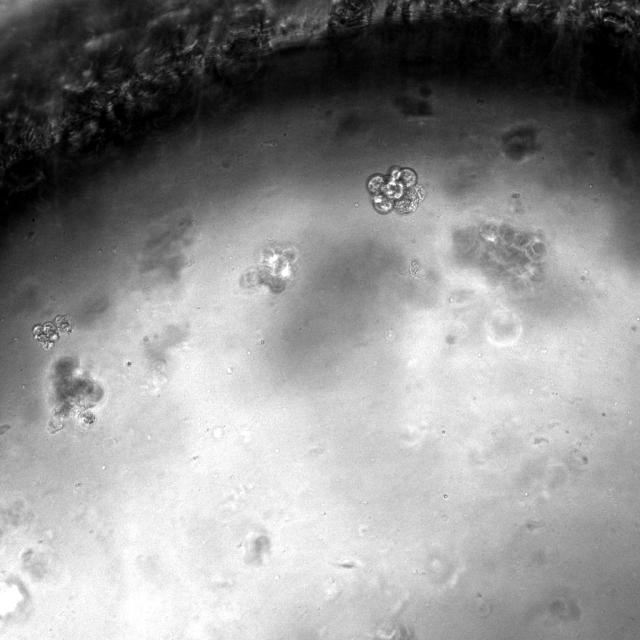organoid: (456, 220, 547, 288), (49, 357, 104, 432), (240, 245, 298, 294), (366, 166, 424, 213), (32, 315, 72, 351)
